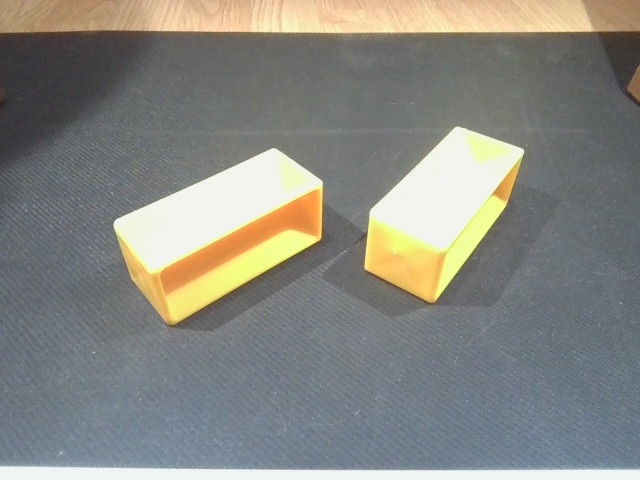YellowSample: (109, 144, 327, 329), (358, 123, 542, 304)
